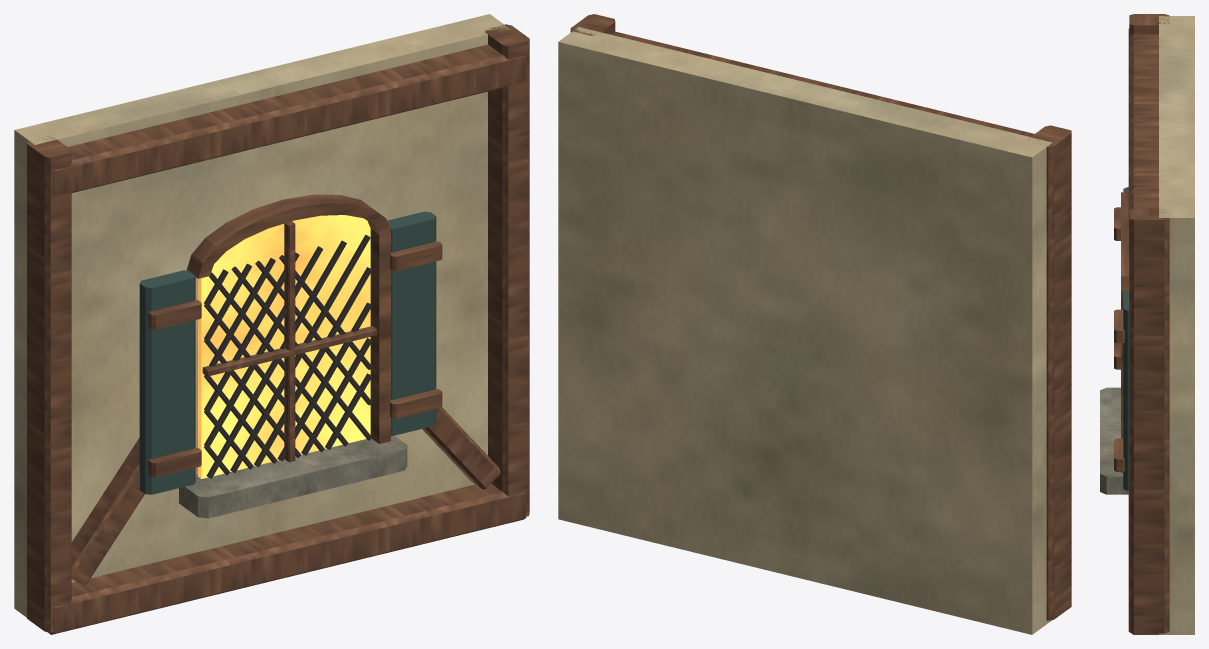
File: wall_window_upper.glb
3 views of the same model, side by side, from view 1: azimuth 30°, elevation 25°; view 2: azimuth 150°, elevation 25°; view 3: azimuth 270°, elevation 25° (orthographic). The views are drawn at different scales.
Parts seen in each view (by area): view 1: Wall Window Upper; view 2: Wall Window Upper; view 3: Wall Window Upper.
Part boxes in pixels (x1,y1,x2,y2): Wall Window Upper: (14,14,529,634); Wall Window Upper: (558,14,1071,634); Wall Window Upper: (1100,14,1194,634).
Size of the model in its own units: 3.26 by 3.09 by 0.635.
Materials: 6 (4 with a texture image).
